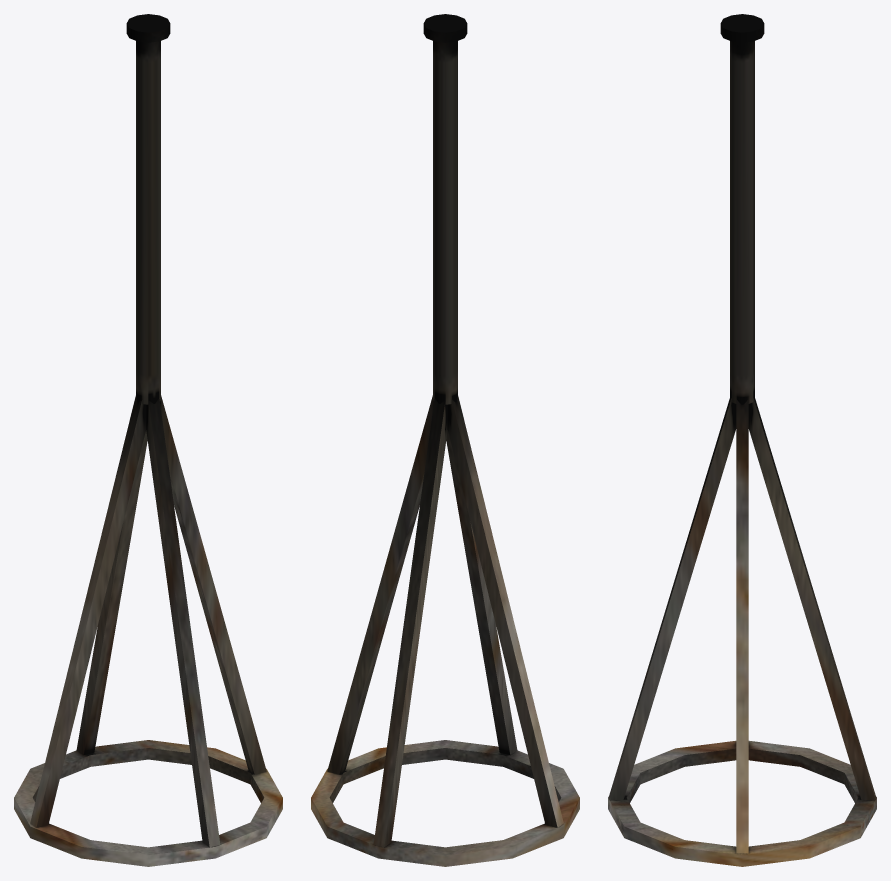
File: Kago.FBX
3 views of the same model, side by side, from view 1: azimuth 30°, elevation 25°; view 2: azimuth 150°, elevation 25°; view 3: azimuth 270°, elevation 25° (orthographic).
Parts seen in each view (by area): view 1: Kassya_mdl; view 2: Kassya_mdl; view 3: Kassya_mdl.
Part boxes in pixels (x1=…): Kassya_mdl: x1=14, y1=14, x2=282, y2=866; Kassya_mdl: x1=311, y1=14, x2=579, y2=866; Kassya_mdl: x1=608, y1=14, x2=876, y2=866.
Bounding box in the file's own units: 73.06 × 232 × 71.95.
Materials: 1 (1 with a texture image).
